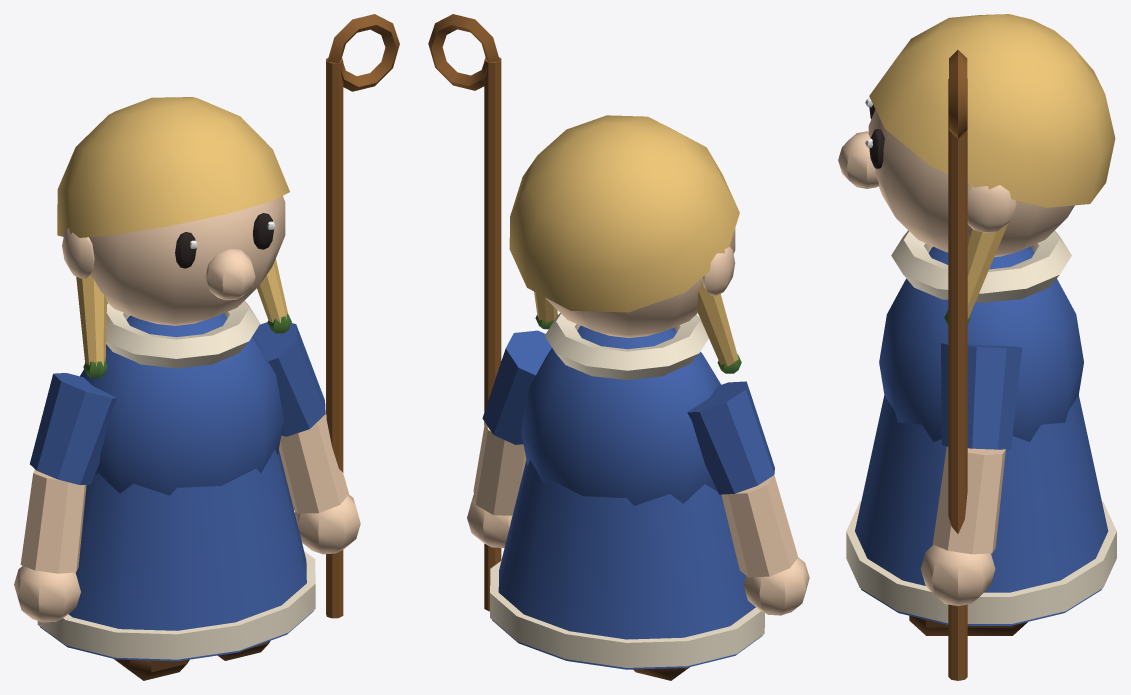
File: CH_Cust_06_CobanKiz.fbx
The picture shows the model from 3 angles, left to right: view 1: azimuth 30°, elevation 25°; view 2: azimuth 150°, elevation 25°; view 3: azimuth 270°, elevation 25°; orthographic projection. The views are drawn at different scales.
Parts seen in each view (by area): view 1: CH_Cust_06_CobanKiz; view 2: CH_Cust_06_CobanKiz; view 3: CH_Cust_06_CobanKiz.
Part boxes in pixels (x1=…): CH_Cust_06_CobanKiz: x1=14, y1=14, x2=399, y2=680; CH_Cust_06_CobanKiz: x1=428, y1=14, x2=809, y2=680; CH_Cust_06_CobanKiz: x1=838, y1=14, x2=1116, y2=680.
Bounding box in the file's own units: 0.7892 × 1.18 × 0.4624.
Materials: 1 (1 with a texture image).
